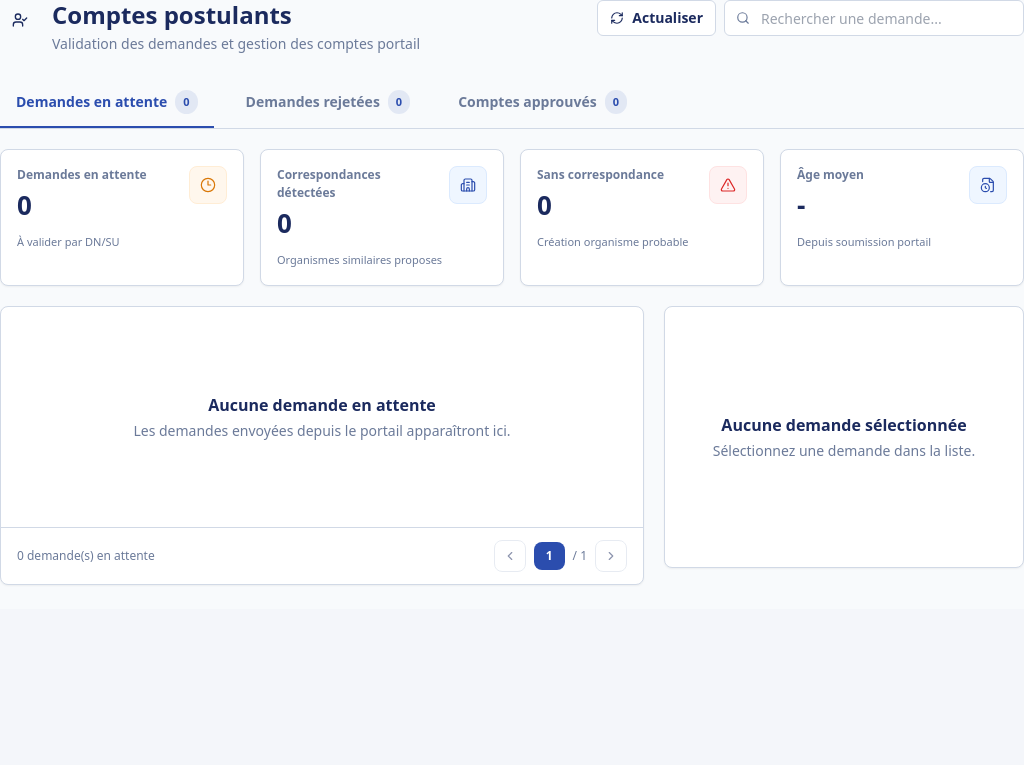
<AccountRequestsPage> password reset (ACCOUNT-V2) › an account waiting for its change says so
Click the button "Comptes approuvés 0".
click(543, 103)  # box [442,78,643,128]
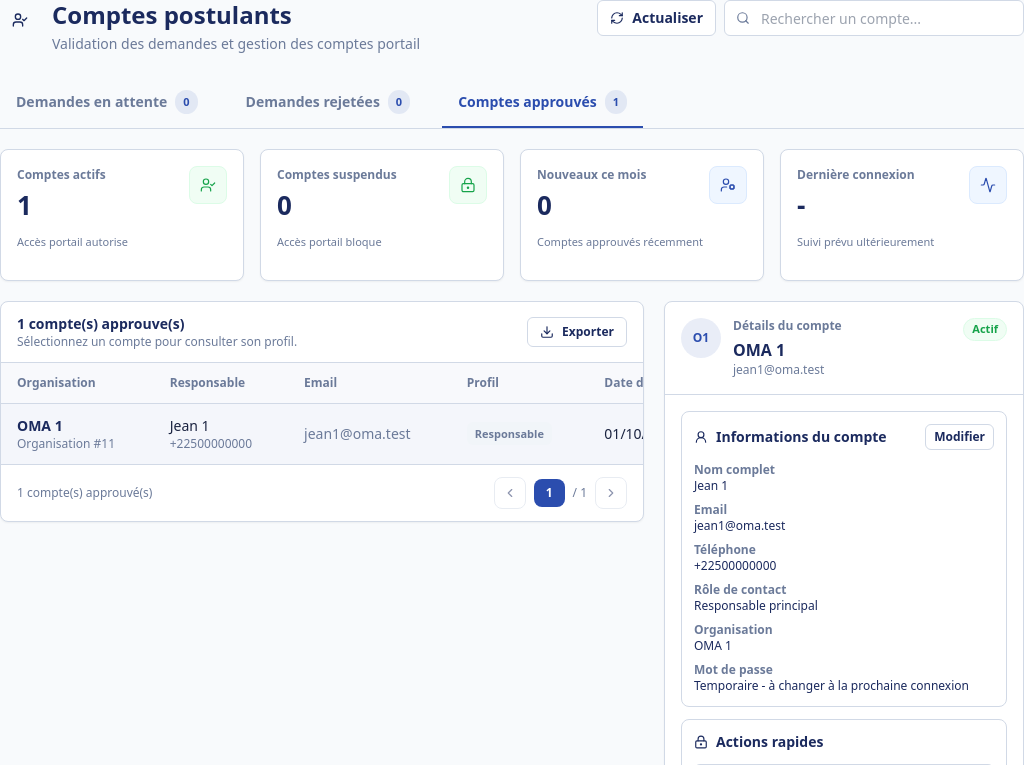
Expected: the text "Temporaire - à changer à la prochaine connexion" is shown, [694,678,994,694]
